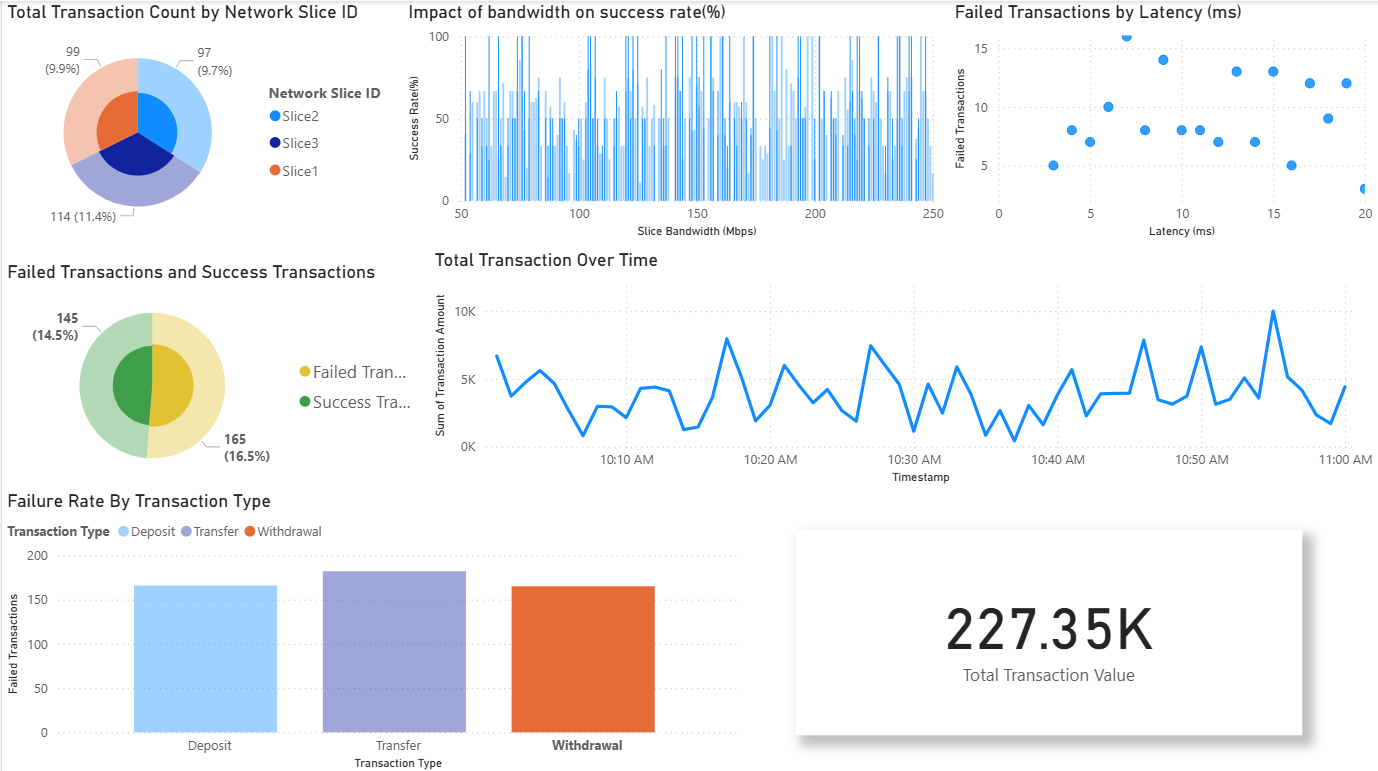

Layout of this report page (visuals, bound fields, positions):
{"tool":"powerbi","page":{"name":"Page 1","canvas":[1280,720],"ordinal":0},"visuals":[{"type":"card","fields":{"Values":["transaction_data.Toutal Transaction Value"]},"box":[738.6,491.4,471.4,191.4],"z":0},{"type":"lineChart","title":"Total Transaction Over Time","fields":{"Y":["Sum(transaction_data.Transaction Amount)"],"Category":["transaction_data.Timestamp"]},"box":[397.1,230,882.9,224.3],"z":2000},{"type":"pieChart","fields":{"Y":["transaction_data.Failed Transactions","transaction_data.Success Transactions"]},"box":[0,241.4,397.1,212.9],"z":3000},{"type":"columnChart","title":"Failure Rate By Transaction Type","fields":{"Y":["transaction_data.Failed Transactions"],"Series":["transaction_data.Transaction Type"],"Category":["transaction_data.Transaction Type","transaction_data.Device Used"]},"box":[0,454.3,690,265.7],"z":4000},{"type":"scatterChart","fields":{"X":["transaction_data.Latency (ms)"],"Y":["transaction_data.Failed Transactions"]},"box":[881.4,0,398.6,225.7],"z":6000},{"type":"pieChart","fields":{"Category":["transaction_data.Network Slice ID"],"Y":["transaction_data.Total Transaction Count"]},"box":[0,0,372.9,225.7],"z":7000},{"type":"clusteredColumnChart","title":"Impact of bandwidth on success rate(%)","fields":{"Y":["transaction_data.Success Rate(%)"],"Category":["transaction_data.Slice Bandwidth (Mbps)"]},"box":[372.9,0,508.6,225.7],"z":8000}]}

Visuals, with their boxes in screenshot pixels (x1, y1, x2, y2), scaled from the page's 1280x720 canvas onto the 1378x771 screenshot:
card - transaction_data.Toutal Transaction Value: Rect(795, 526, 1303, 731)
"Total Transaction Over Time" lineChart: Rect(428, 246, 1377, 486)
pieChart - transaction_data.Failed Transactions x transaction_data.Success Transactions: Rect(0, 258, 428, 486)
"Failure Rate By Transaction Type" columnChart: Rect(0, 486, 743, 770)
scatterChart - transaction_data.Latency (ms) x transaction_data.Failed Transactions: Rect(949, 0, 1377, 242)
pieChart - transaction_data.Network Slice ID x transaction_data.Total Transaction Count: Rect(0, 0, 401, 242)
"Impact of bandwidth on success rate(%)" clusteredColumnChart: Rect(401, 0, 949, 242)
